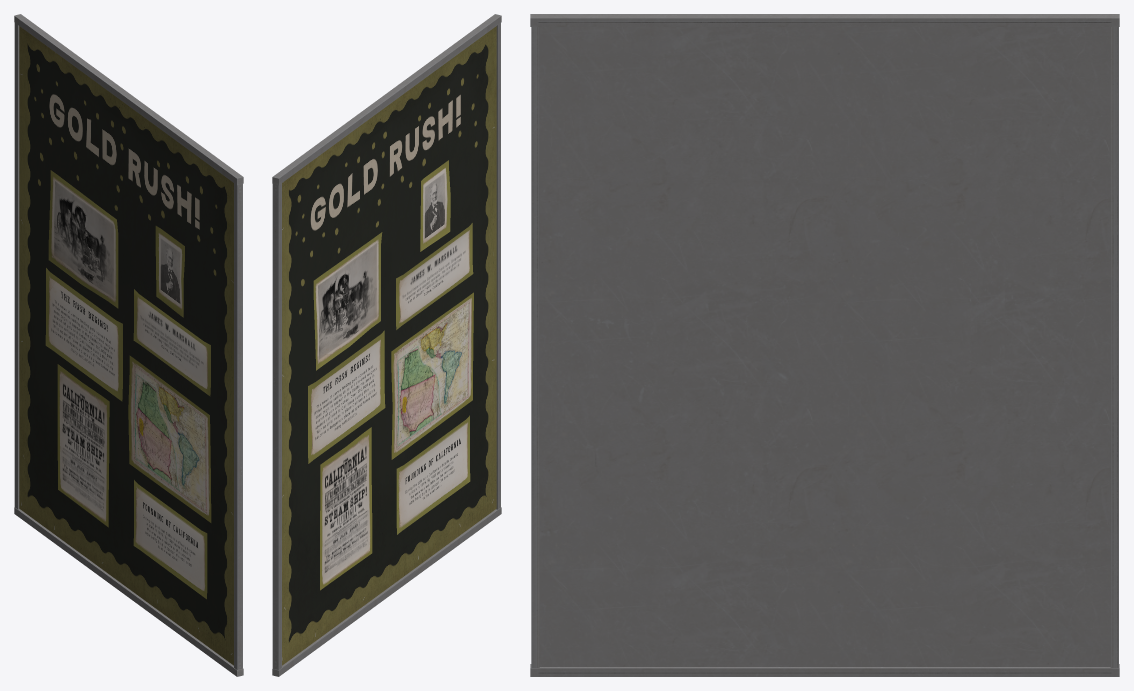
Rendered from SM_Wallboard_02a.fbx.
3 views of the same model, side by side, from view 1: azimuth 30°, elevation 25°; view 2: azimuth 150°, elevation 25°; view 3: azimuth 270°, elevation 25° (orthographic). The views are drawn at different scales.
Parts seen in each view (by area): view 1: SM_Wallboard_02a_LOD0; view 2: SM_Wallboard_02a_LOD0; view 3: SM_Wallboard_02a_LOD0.
Part boxes in pixels (x1,y1,x2,y2): SM_Wallboard_02a_LOD0: (14,14,243,676); SM_Wallboard_02a_LOD0: (272,14,501,676); SM_Wallboard_02a_LOD0: (530,14,1119,676).
Bounding box in the file's own units: 2.67 × 121 × 149.
Materials: 1 (1 with a texture image).
